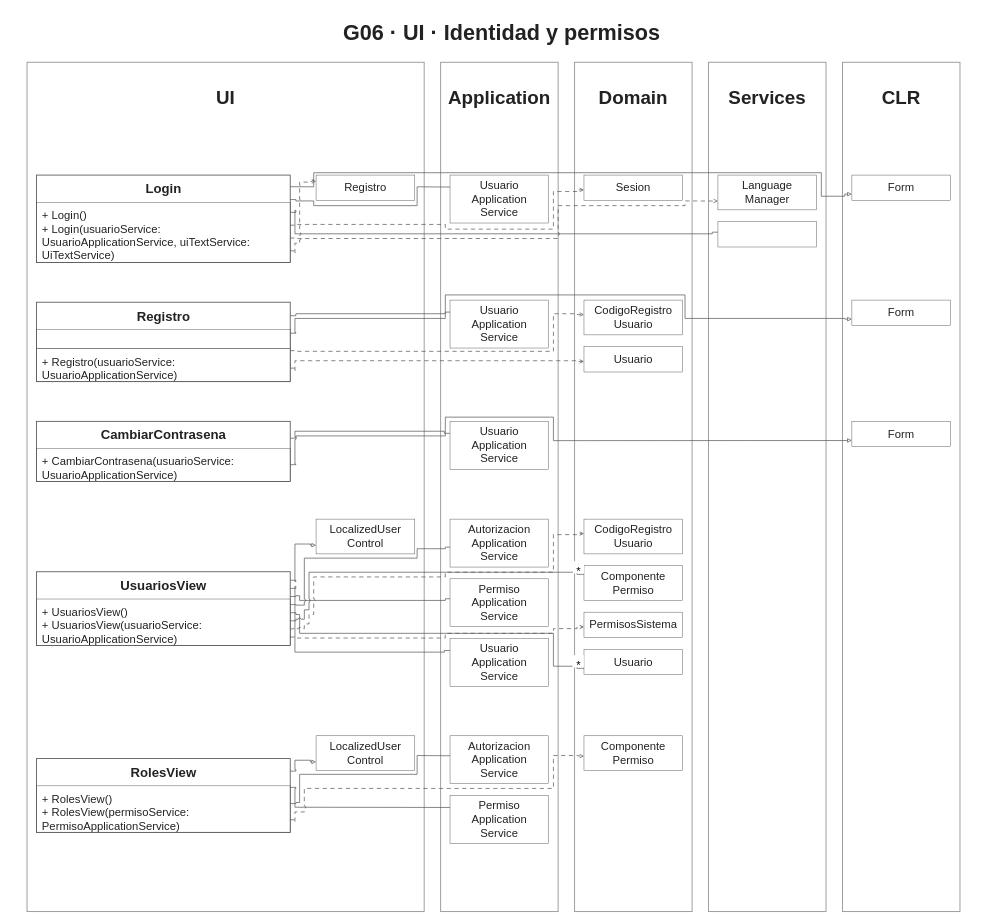
The diagram is 1003 pixels wide and 920 high, and some of its shapes have lost their labels. The shapes that lost their labels are listed below. From the top down, each one's centre as x and y in pixels, then its label:
At point 767,234: "UiTextService".
At point 163,339: "+ UsuarioRegistrado : string".
